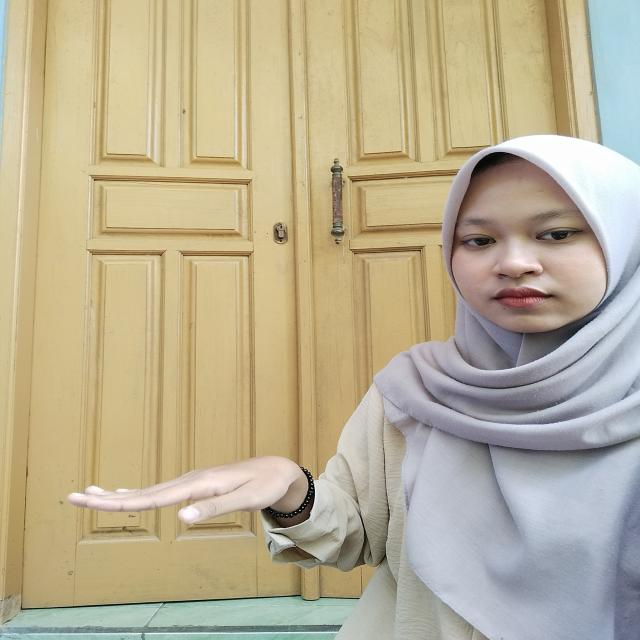adik: (39, 447, 347, 548)
